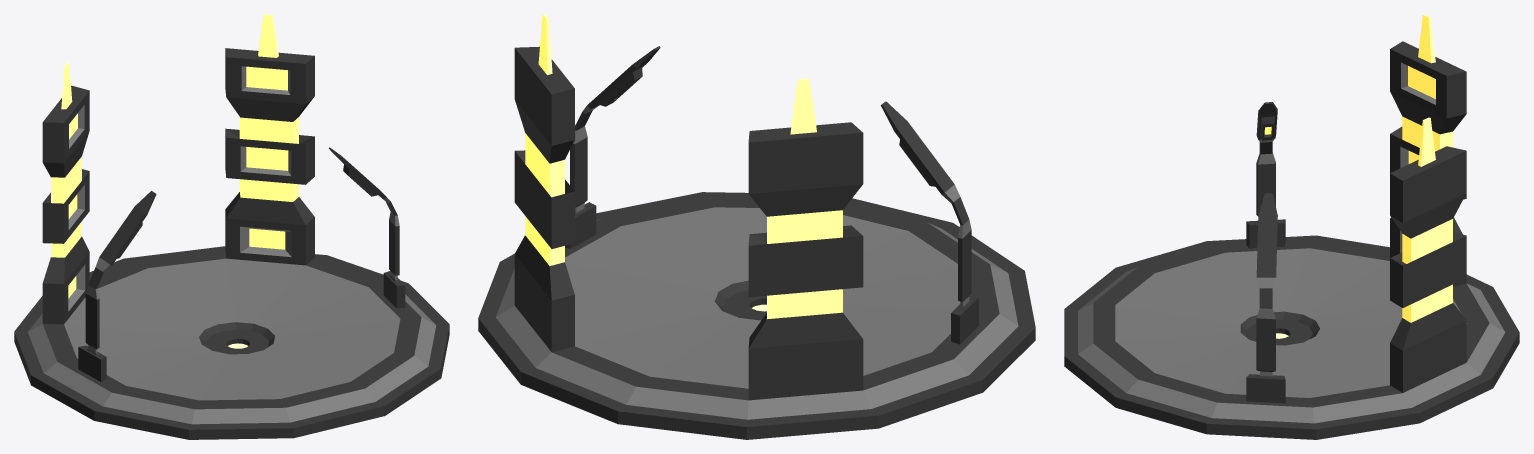
Rendered from Portal 1.fbx.
The picture shows the model from 3 angles, left to right: view 1: azimuth 30°, elevation 25°; view 2: azimuth 150°, elevation 25°; view 3: azimuth 270°, elevation 25°; orthographic projection. The views are drawn at different scales.
Parts seen in each view (by area): view 1: Cylinder; view 2: Cylinder; view 3: Cylinder.
Boxes of the visible parts, bbox=[...] form: Cylinder: bbox=[14, 14, 449, 439]; Cylinder: bbox=[478, 14, 1035, 439]; Cylinder: bbox=[1064, 14, 1519, 439].
Bounding box in the file's own units: 1114 × 738 × 1106.
